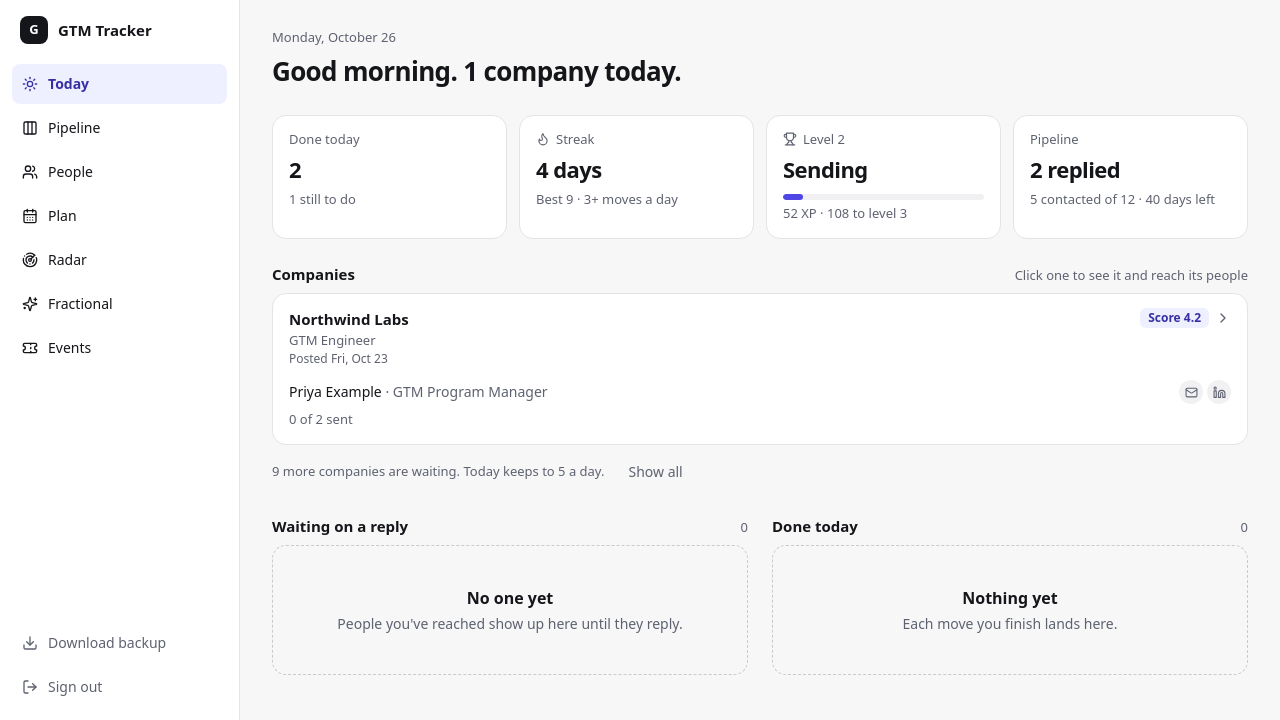
Test: Today › says how many companies are waiting and shows them all on request
The image size is (1280, 720).
Expected: the text "9 more companies are waiting" is shown, [272,452,699,490]
What coordinates should you click on to do the following:
click the button "Show all"
I would click on:
 (656, 472)
Its box is [612,452,699,490].
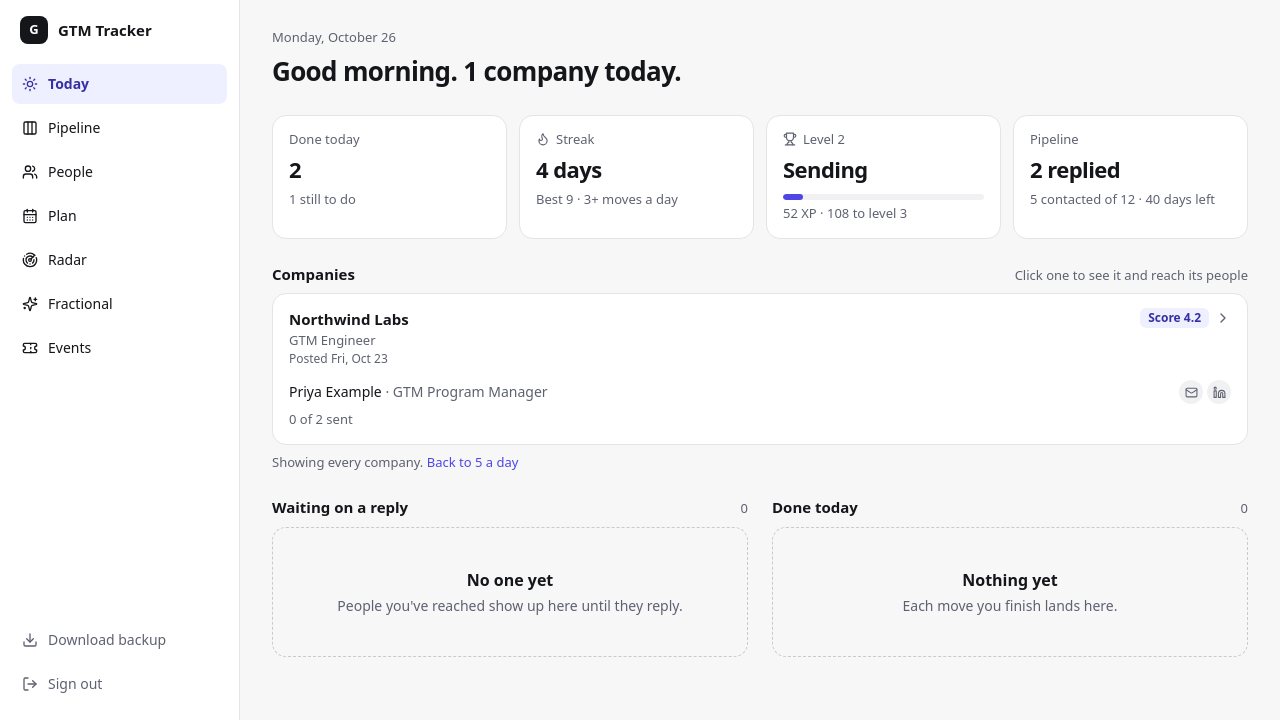
Expected: the text "Showing every company. Back to 5 a day" is shown, [272,452,518,472]
